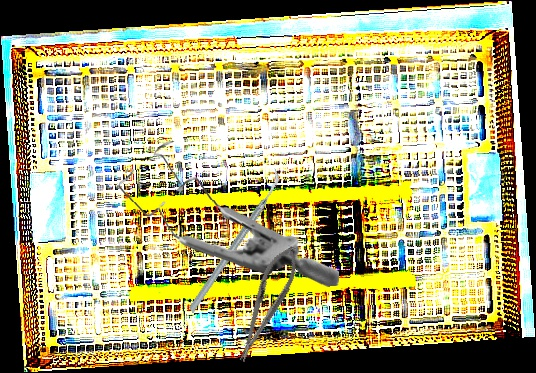Chopper: (150, 167, 318, 315)
Needle Holder: (226, 240, 307, 367)
Speculum: (116, 135, 340, 294)
